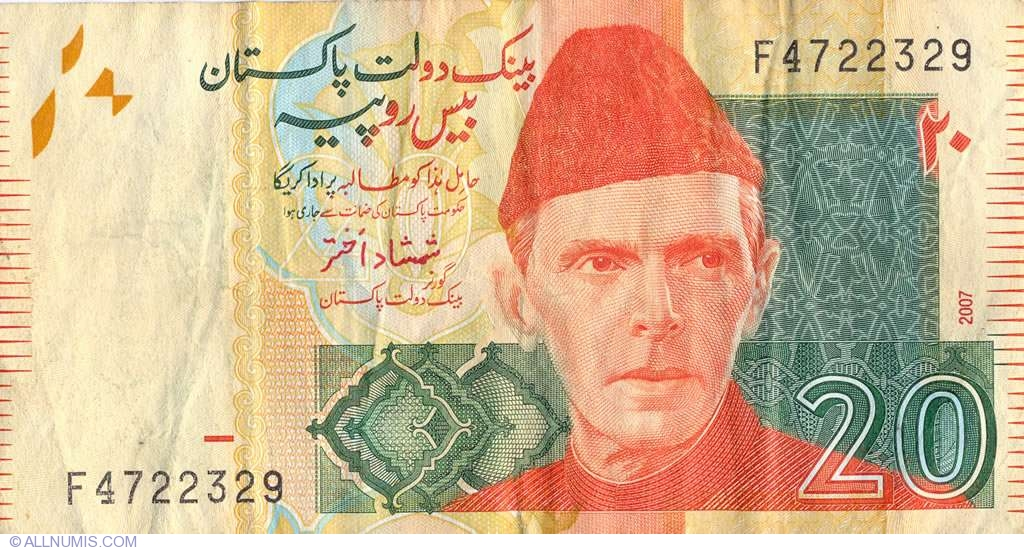20 rupee: (6, 12, 1013, 545)
